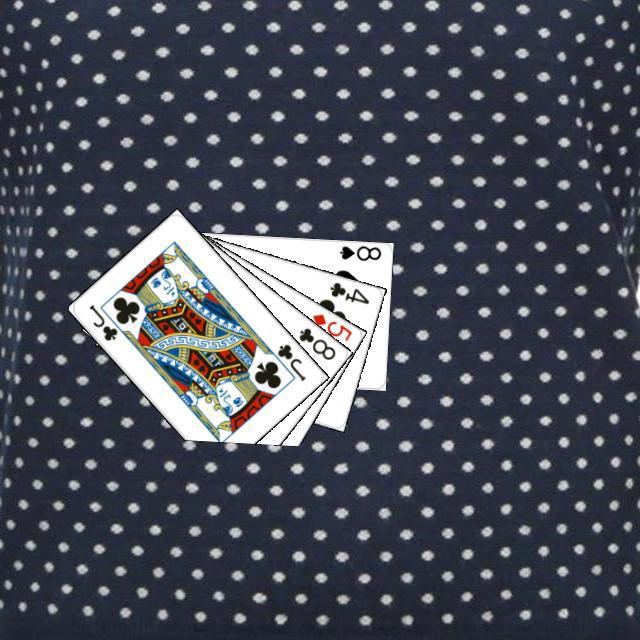4c: (325, 277, 371, 306)
5d: (307, 309, 353, 343)
8c: (294, 323, 337, 362)
8s: (335, 241, 382, 262)
Jc: (272, 339, 307, 383), (84, 300, 119, 343)
